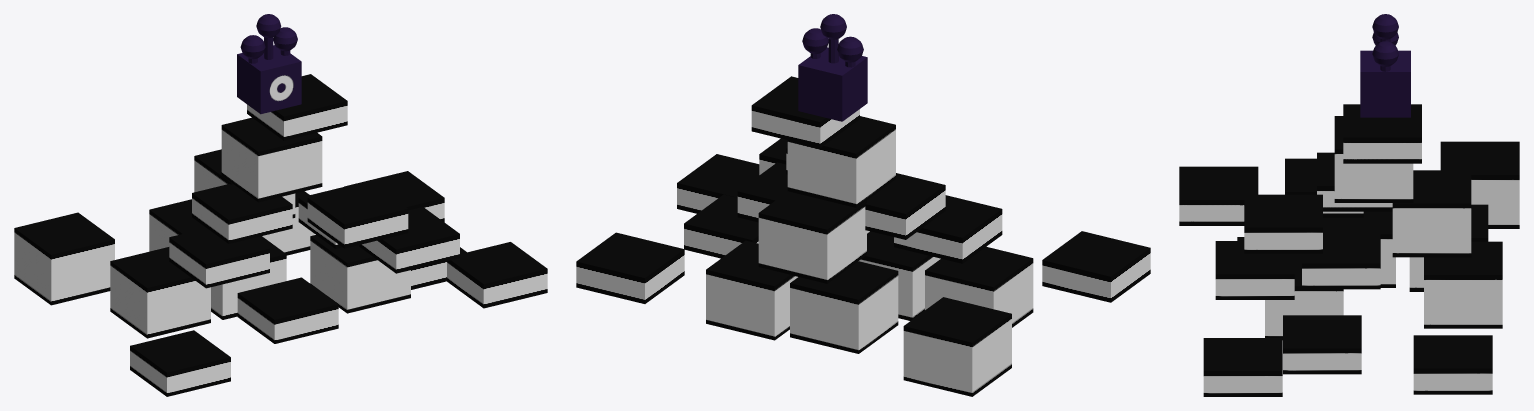
The model's file is endcube.fbx.
The picture shows the model from 3 angles, left to right: view 1: azimuth 30°, elevation 25°; view 2: azimuth 150°, elevation 25°; view 3: azimuth 270°, elevation 25°; orthographic projection. The views are drawn at different scales.
Visible parts, largest first — view 1: endcube; view 2: endcube; view 3: endcube.
Boxes of the visible parts, bbox=[...] form: endcube: bbox=[14, 14, 547, 396]; endcube: bbox=[576, 14, 1150, 396]; endcube: bbox=[1179, 14, 1519, 396].
Size of the model in its own units: 67.67 by 43.33 by 47.6.
